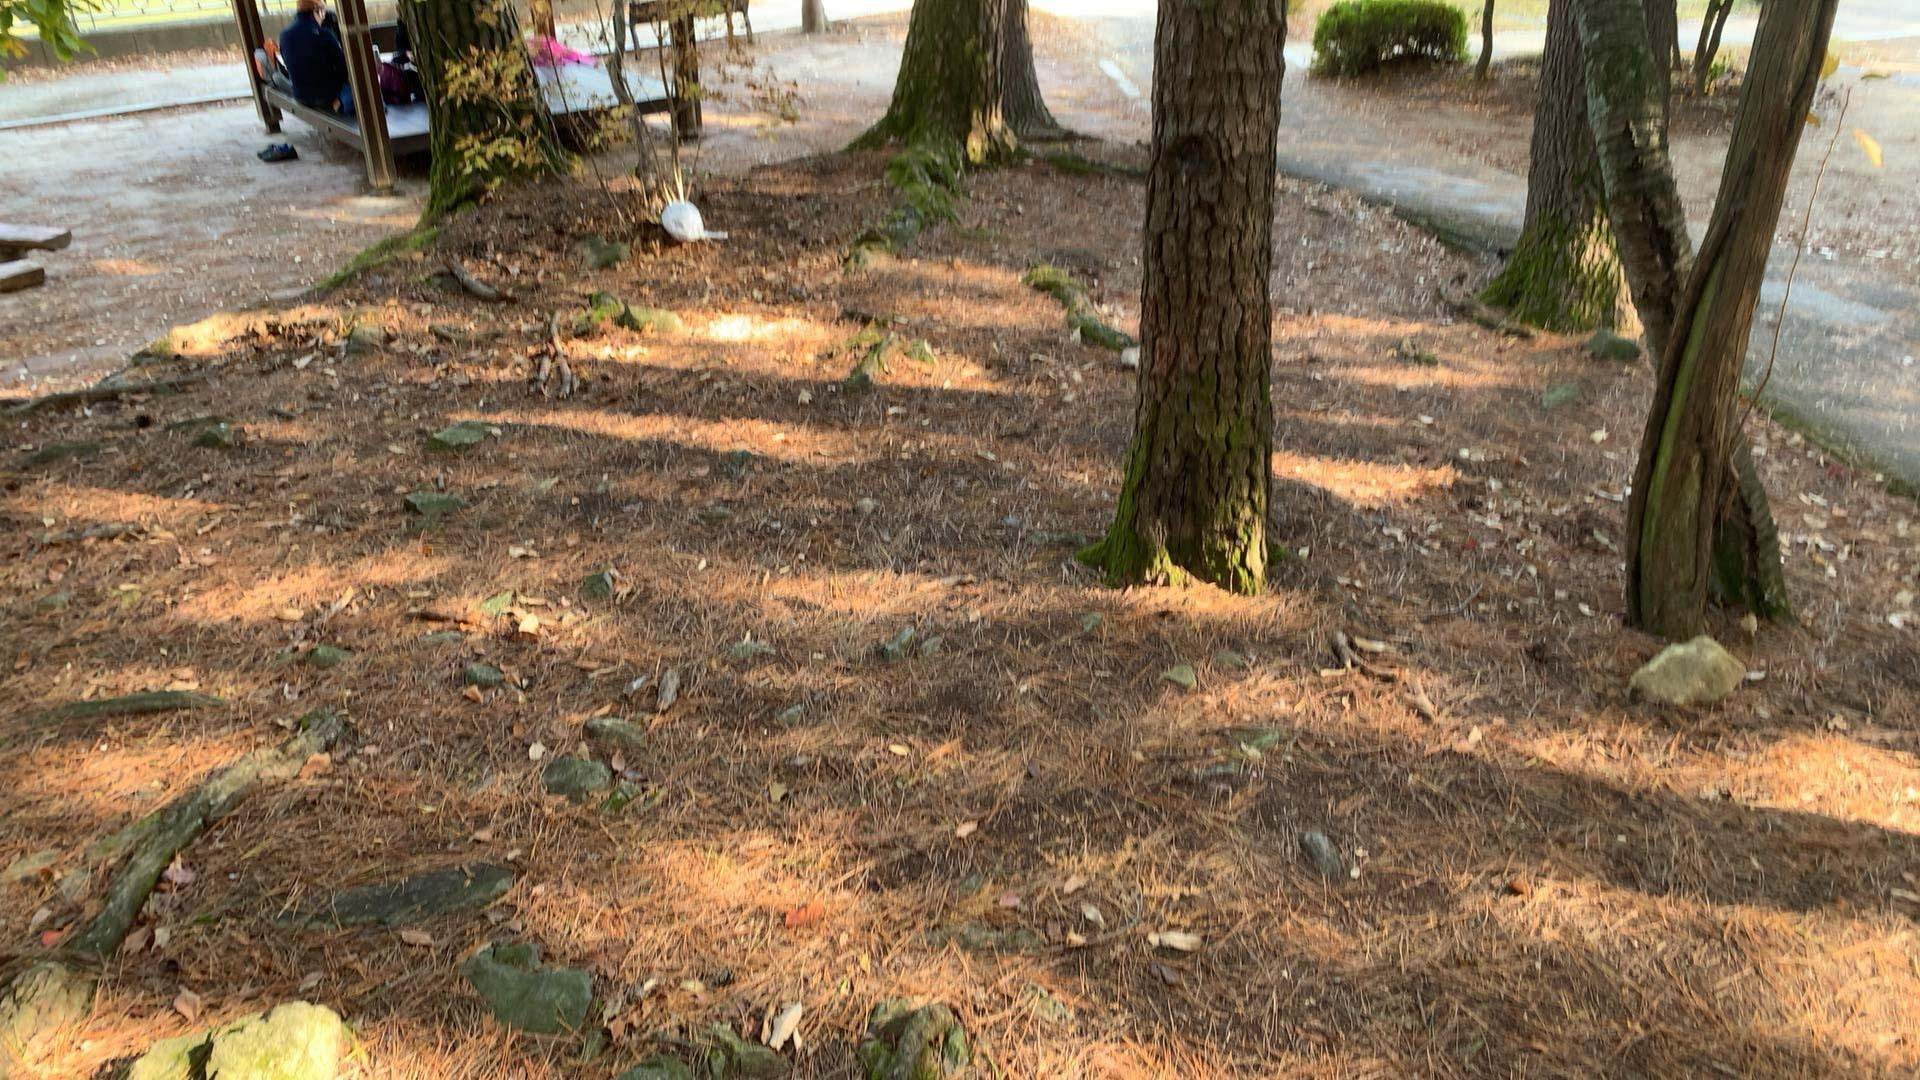white_bag: (657, 196, 708, 247)
